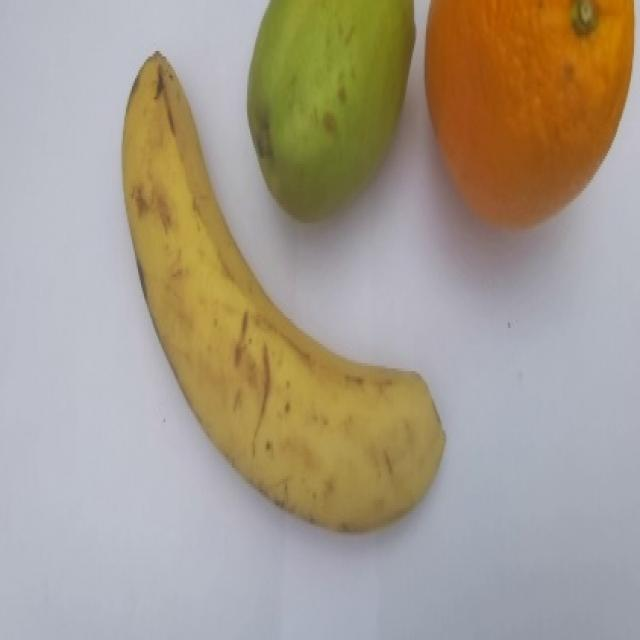Banana: (122, 51, 447, 529)
Orange: (422, 0, 636, 237)
